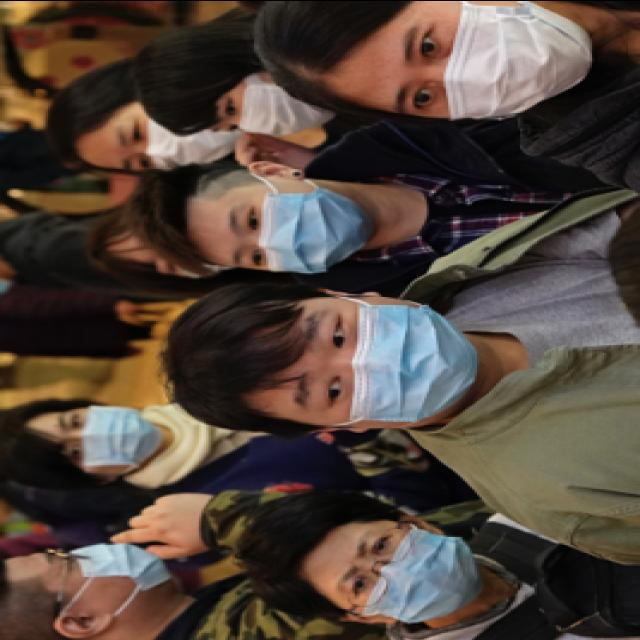mask: (286, 298, 482, 428), (386, 0, 588, 117), (328, 524, 486, 622), (218, 180, 372, 274), (34, 540, 175, 606), (106, 102, 240, 170), (50, 402, 168, 472), (206, 76, 328, 134)
